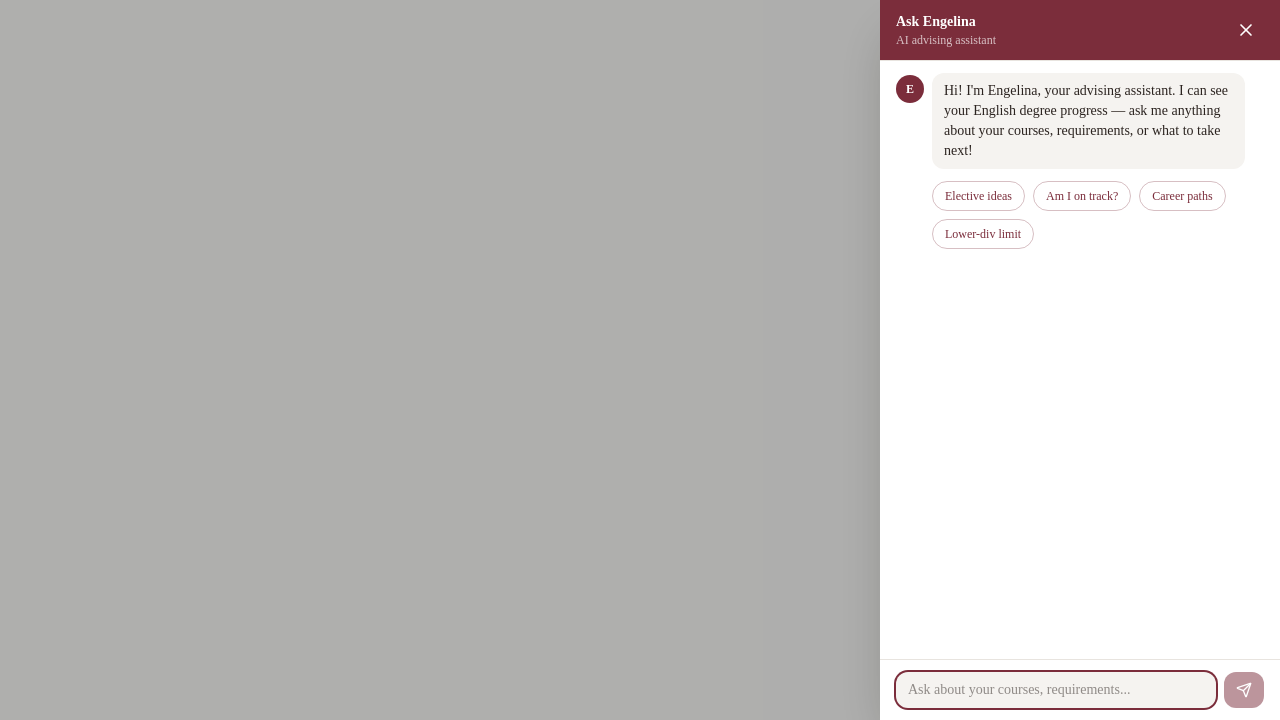
Test: Engelina chat smoke tests › sends a chat message and renders assistant response
Type "What should I take next?" into the field with placeholder "Ask about your courses, requirements..." at (1056,690), box 896,672 -> 1216,708
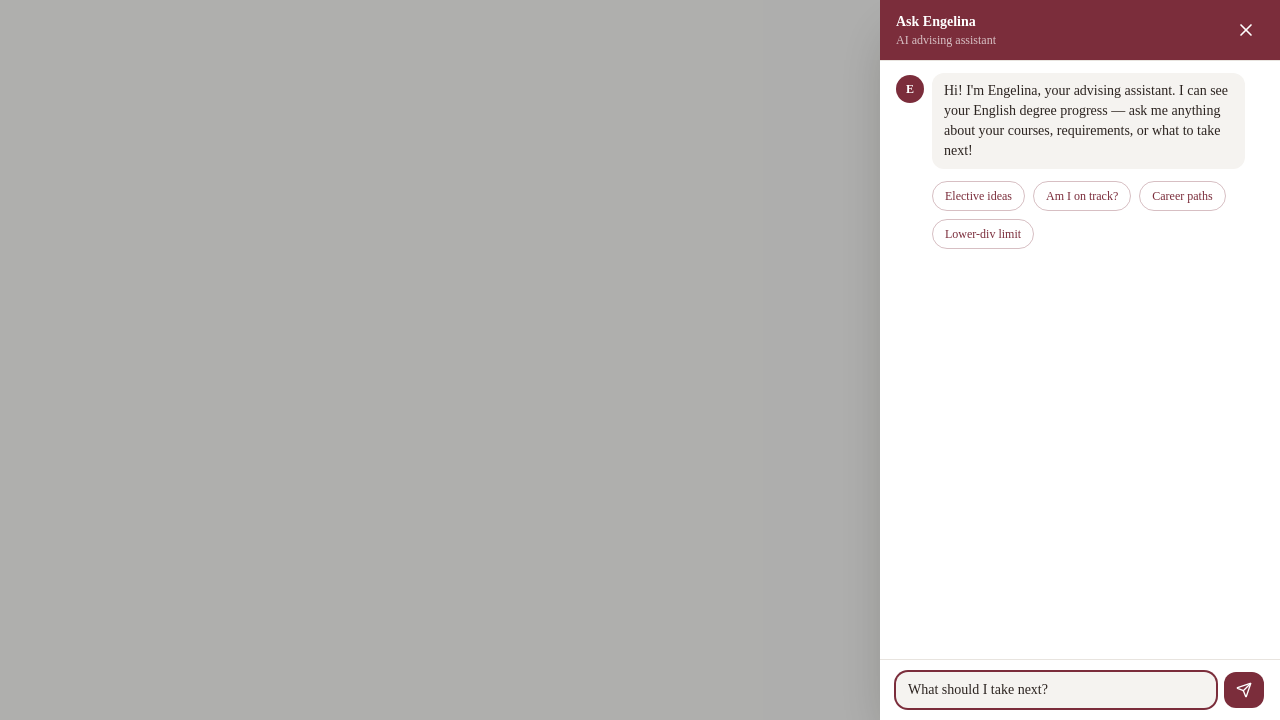
Click the button named "send message" at (1244,690), box 1224,672 -> 1264,708
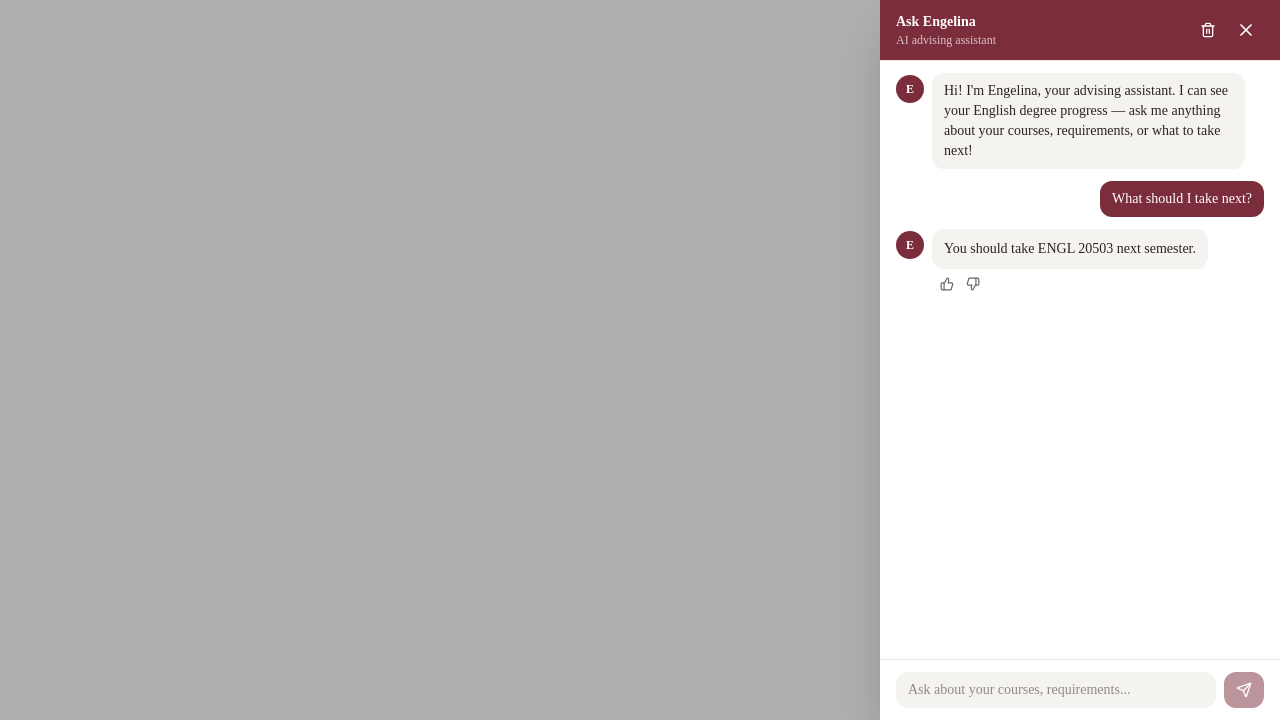
Now the text "What should I take next?" is shown, box 1112,189 -> 1252,209
Now the text "You should take ENGL 20503 next semester." is shown, box 944,239 -> 1196,259
